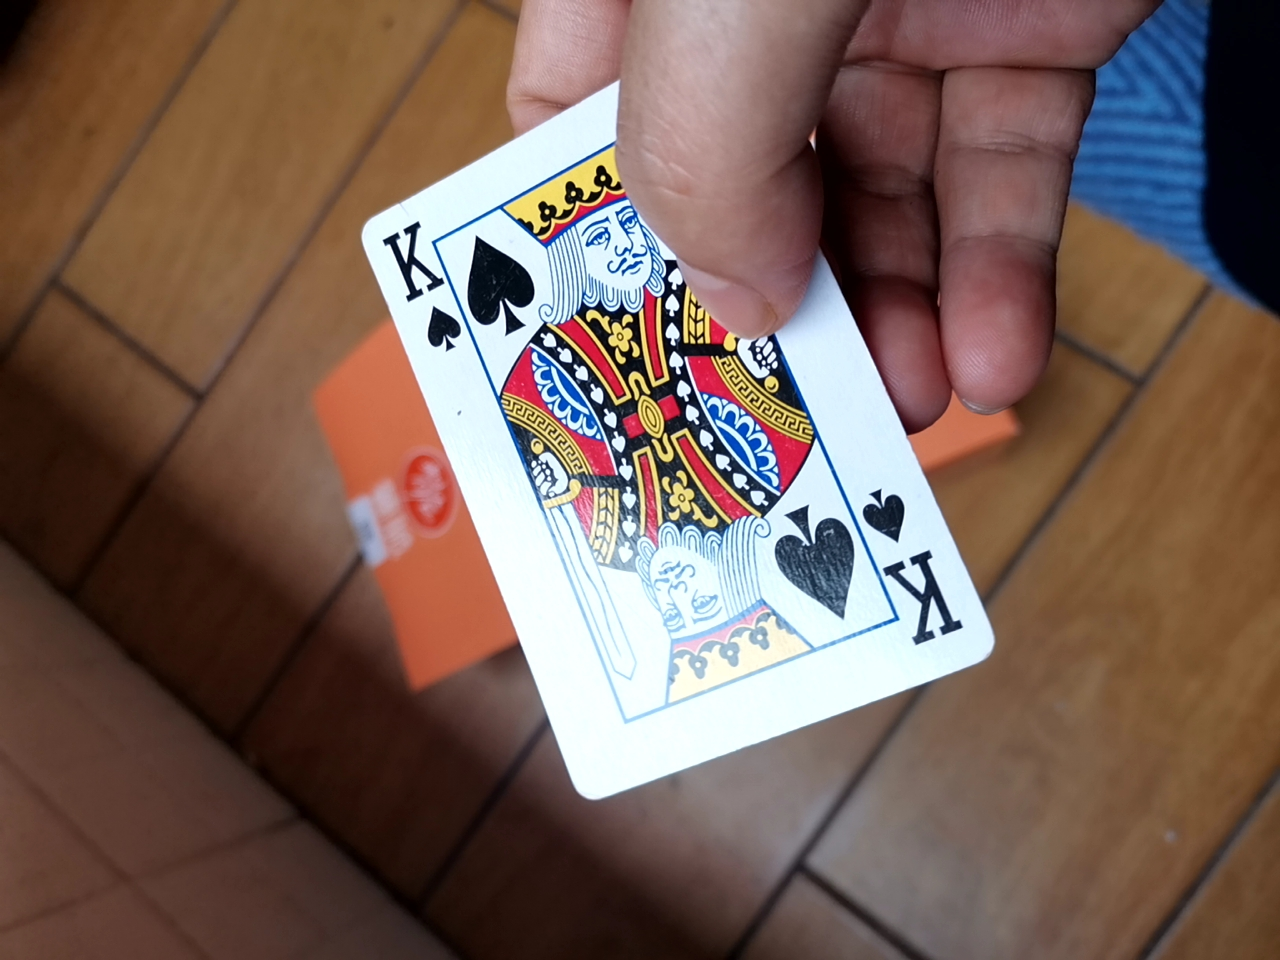ht k: (354, 88, 994, 819)
